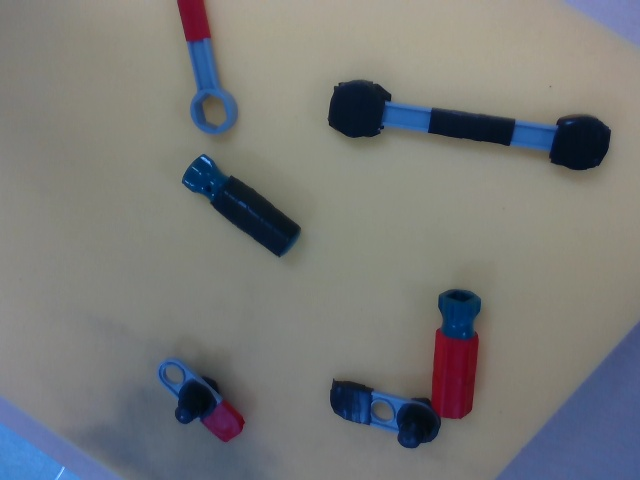part_1_good: (154, 354, 247, 446)
